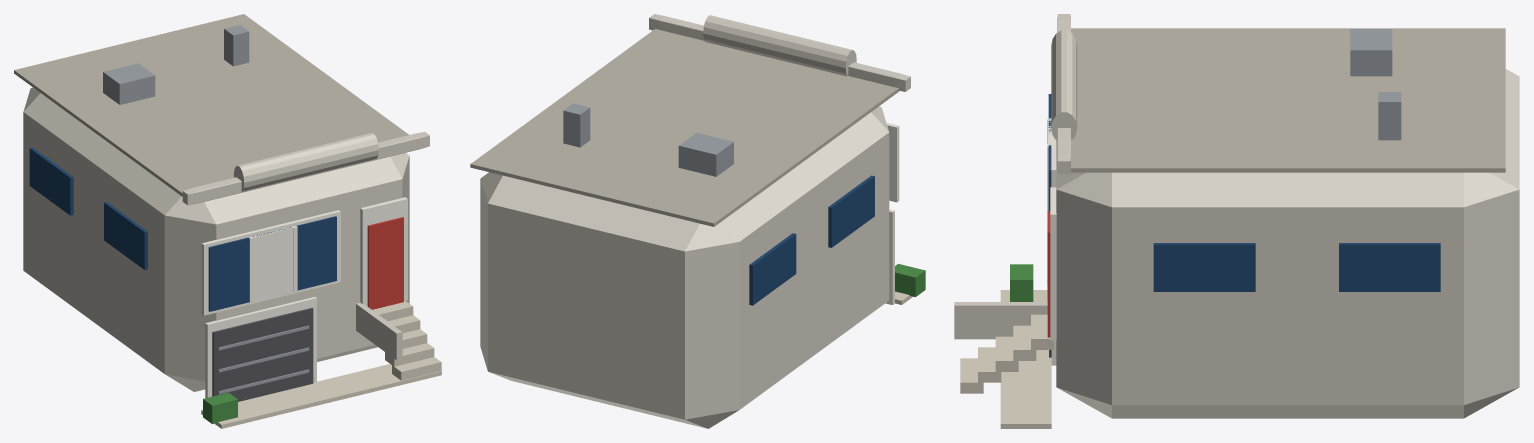
File: sunset_w7_curved_pic.glb
3 views of the same model, side by side, from view 1: azimuth 30°, elevation 25°; view 2: azimuth 150°, elevation 25°; view 3: azimuth 270°, elevation 25° (orthographic). The views are drawn at different scales.
Visible parts, largest first — view 1: walls, roofslab, gdoor, pwin, patio, pcurve, door, pmull, pp1, gfr, pfr, dfr (+9 smaller); view 2: walls, roofslab, pcurve, sb.002, sb, hvac, pp1, pipe, pfr, hedge, gfr; view 3: walls, roofslab, sb.001, sb.003, patio, srail, pcurve, hvac, pipe, dfr, hedge, pp1 (+5 smaller).
Boxes of the visible parts, x1,y1,x2,y2 form: walls: [23, 87, 409, 391]; roofslab: [14, 14, 408, 196]; gdoor: [212, 308, 313, 401]; pwin: [208, 216, 336, 311]; patio: [201, 364, 441, 428]; pcurve: [233, 133, 378, 191]; door: [367, 217, 403, 309]; pmull: [254, 227, 292, 300]; pp1: [182, 131, 429, 205]; gfr: [205, 297, 316, 398]; pfr: [201, 210, 340, 315]; dfr: [360, 197, 407, 306]; walls: [480, 106, 889, 428]; roofslab: [470, 29, 899, 226]; pcurve: [703, 15, 856, 76]; sb.002: [749, 233, 796, 305]; sb: [828, 175, 874, 247]; hvac: [678, 132, 733, 176]; pp1: [649, 14, 910, 91]; pipe: [563, 103, 590, 147]; pfr: [886, 122, 899, 202]; hedge: [895, 263, 925, 296]; gfr: [885, 209, 894, 304]; walls: [1056, 69, 1519, 418]; roofslab: [1071, 28, 1505, 172]; sb.001: [1153, 243, 1255, 291]; sb.003: [1339, 243, 1440, 291]; patio: [1000, 290, 1051, 428]; srail: [954, 302, 1047, 339]; pcurve: [1051, 30, 1077, 140]; hvac: [1350, 29, 1392, 76]; pipe: [1378, 92, 1401, 140]; dfr: [1050, 187, 1056, 340]; hedge: [1010, 264, 1033, 301]; pp1: [1057, 14, 1070, 174].
Bounding box in the file's own units: 7.8 × 7.2 × 12.2.
